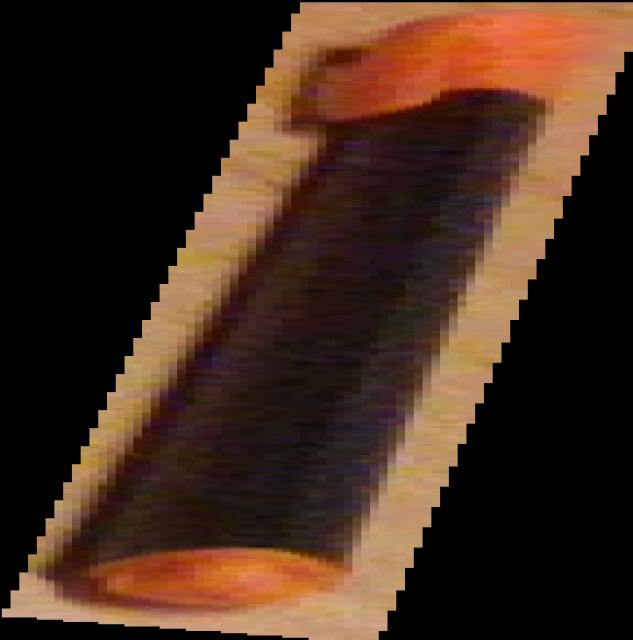orange: (1, 1, 633, 640)
